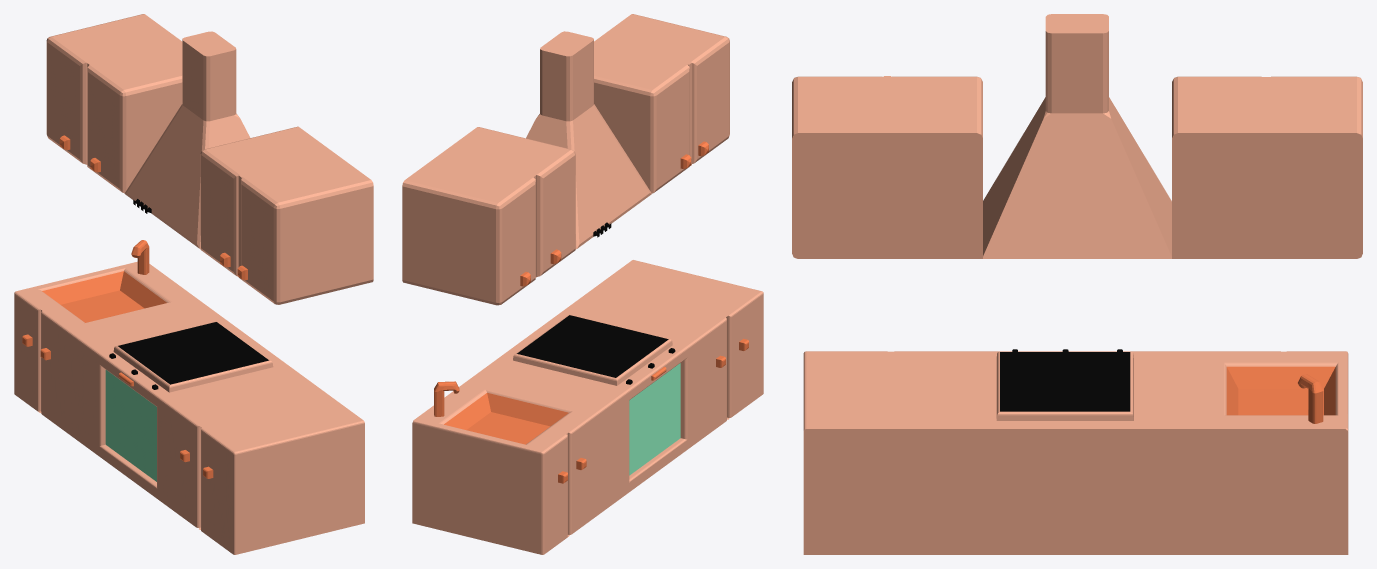
Rendered from Kitchen.fbx.
The picture shows the model from 3 angles, left to right: view 1: azimuth 30°, elevation 25°; view 2: azimuth 150°, elevation 25°; view 3: azimuth 270°, elevation 25°; orthographic projection. The views are drawn at different scales.
Parts seen in each view (by area): view 1: Kitchen; view 2: Kitchen; view 3: Kitchen.
Boxes of the visible parts, x1,y1,x2,y2 form: Kitchen: (14, 14, 373, 554); Kitchen: (402, 14, 763, 554); Kitchen: (792, 14, 1362, 554).
Bounding box in the file's own units: 173 × 479 × 491.
